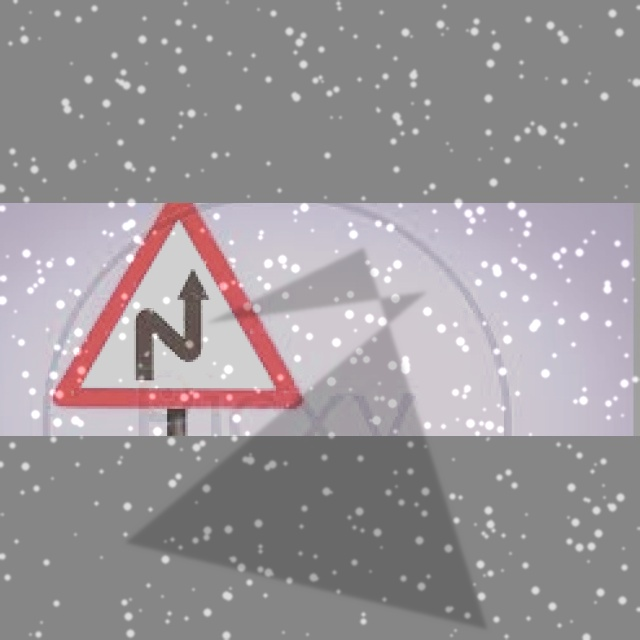Right_Reverse_Bend: (83, 221, 279, 408)
